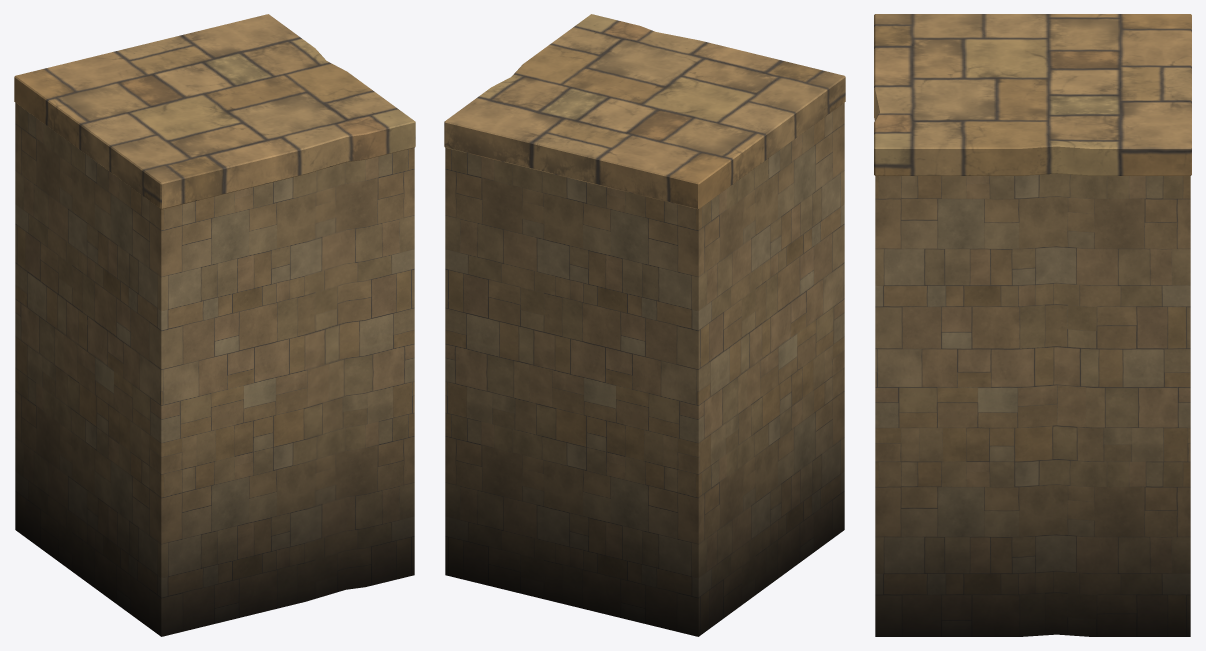
Rendered from TallPlatform.fbx.
3 renders of one model, left to right at view 1: azimuth 30°, elevation 25°; view 2: azimuth 150°, elevation 25°; view 3: azimuth 270°, elevation 25°, orthographic. The views are drawn at different scales.
Parts seen in each view (by area): view 1: TallPlatform; view 2: TallPlatform; view 3: TallPlatform.
Boxes of the visible parts, bbox=[...] form: TallPlatform: bbox=[14, 14, 415, 636]; TallPlatform: bbox=[444, 14, 845, 636]; TallPlatform: bbox=[874, 14, 1191, 636].
Size of the model in its own units: 500 by 850 by 500.
